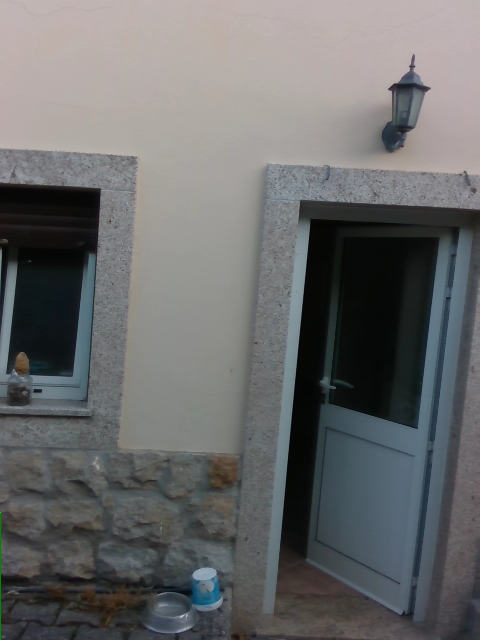semi: (255, 203, 479, 627)
